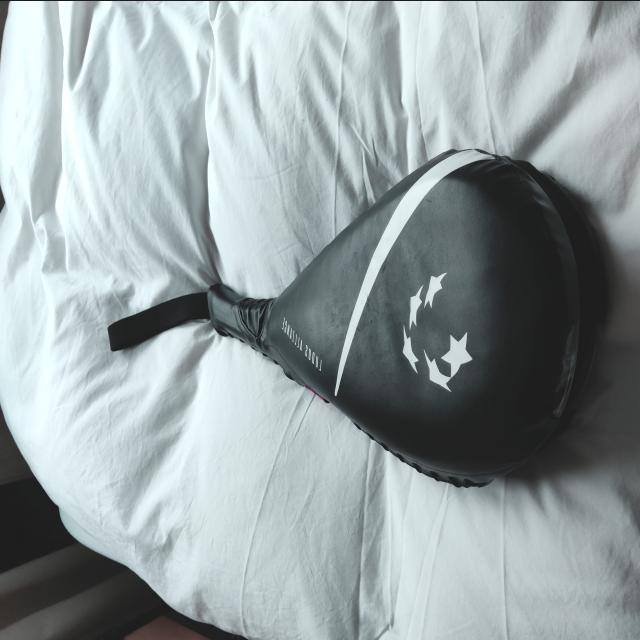paddle: (202, 142, 588, 495)
